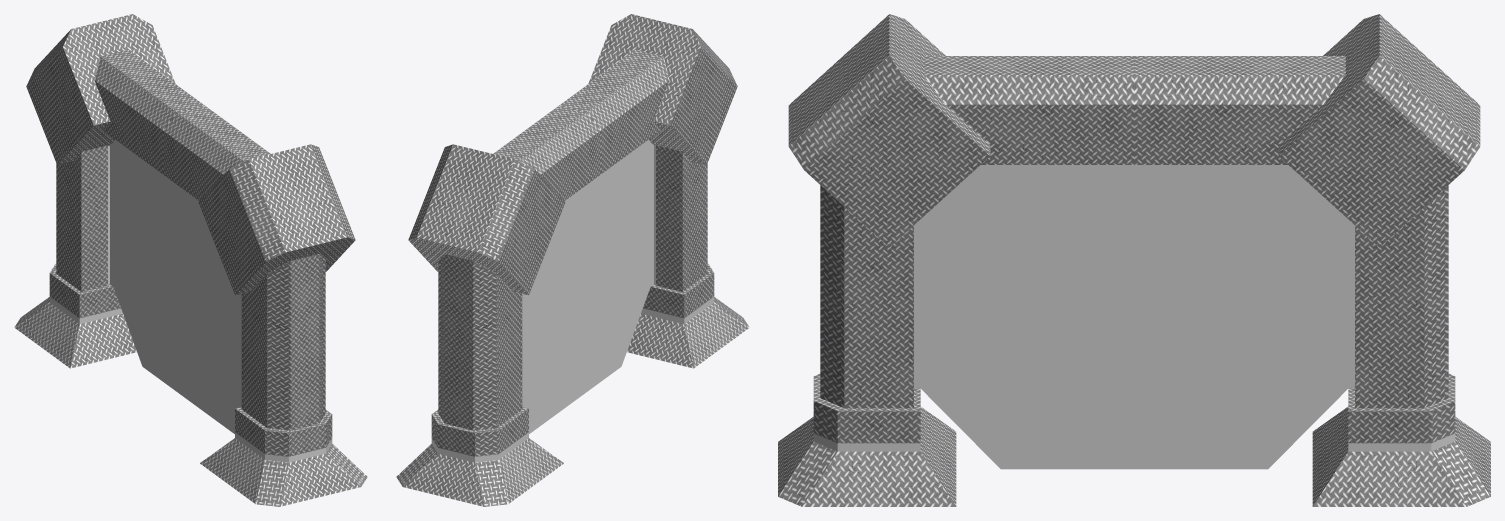
File: Upgrader.fbx
The picture shows the model from 3 angles, left to right: view 1: azimuth 30°, elevation 25°; view 2: azimuth 150°, elevation 25°; view 3: azimuth 270°, elevation 25°; orthographic projection. The views are drawn at different scales.
Parts seen in each view (by area): view 1: Upgrader; view 2: Upgrader; view 3: Upgrader.
Part boxes in pixels (x1=…): Upgrader: x1=14, y1=14, x2=367, y2=506; Upgrader: x1=396, y1=14, x2=749, y2=506; Upgrader: x1=778, y1=14, x2=1490, y2=506.
Bounding box in the file's own units: 40 × 108 × 160.
